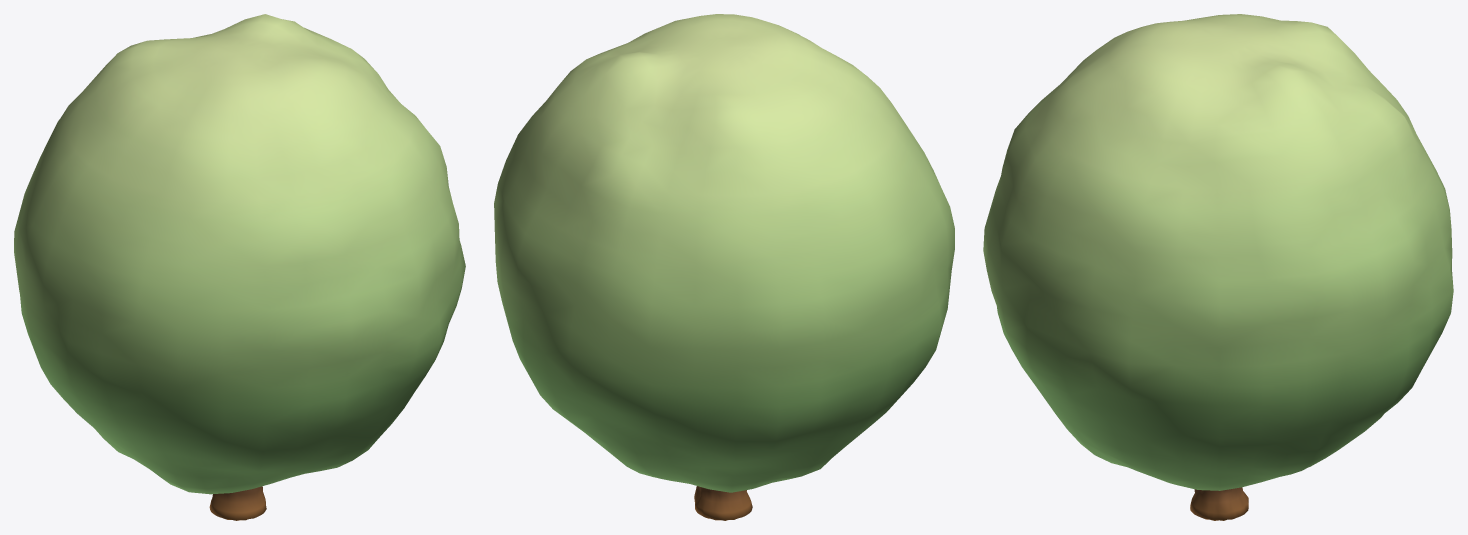
File: bush.fbx
3 views of the same model, side by side, from view 1: azimuth 30°, elevation 25°; view 2: azimuth 150°, elevation 25°; view 3: azimuth 270°, elevation 25° (orthographic). The views are drawn at different scales.
Parts seen in each view (by area): view 1: Sphere; view 2: Sphere; view 3: Sphere.
Part boxes in pixels (x1,y1,x2,y2): Sphere: [14, 14, 465, 520]; Sphere: [494, 14, 954, 520]; Sphere: [983, 14, 1453, 520].
Bounding box in the file's own units: 200 × 223 × 201.
